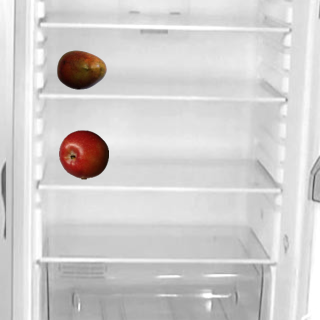Apple Braeburn: (58, 129, 108, 179)
Mango Red: (56, 44, 106, 94)
